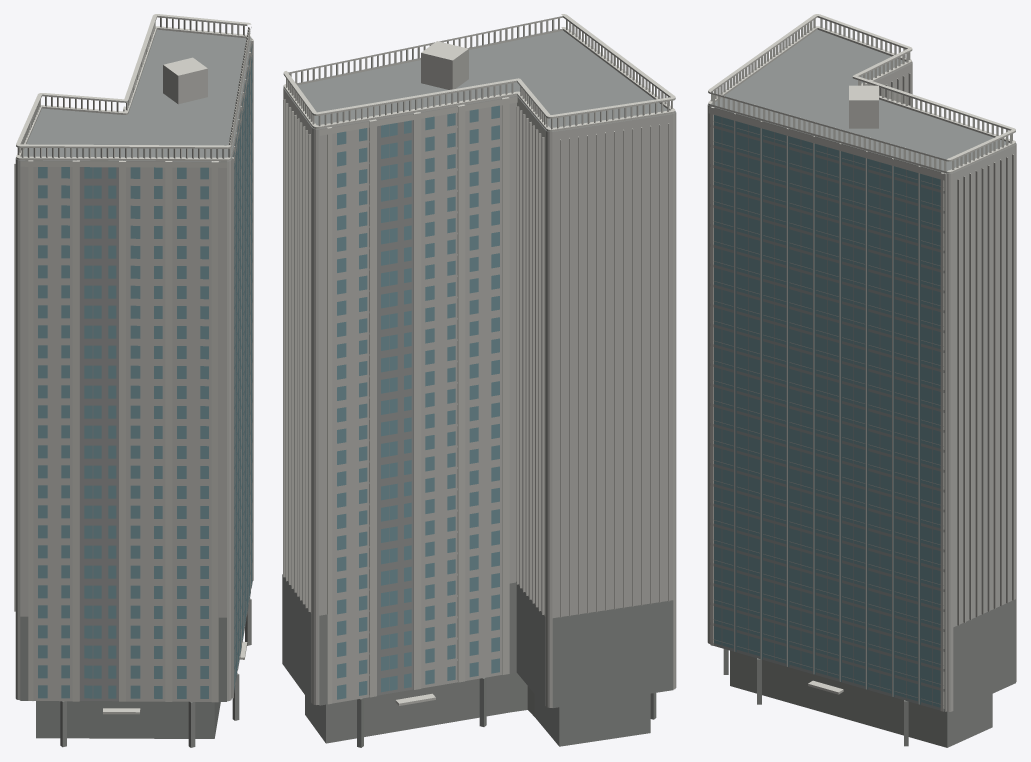
Rendered from maple-xi-212.glb.
3 views of the same model, side by side, from view 1: azimuth 30°, elevation 25°; view 2: azimuth 150°, elevation 25°; view 3: azimuth 270°, elevation 25° (orthographic). The views are drawn at different scales.
Parts seen in each view (by area): view 1: maple-xi-212; view 2: maple-xi-212; view 3: maple-xi-212.
Part boxes in pixels (box(x1,y1,x2,y2)): maple-xi-212: box(14, 14, 253, 747); maple-xi-212: box(282, 14, 676, 747); maple-xi-212: box(707, 14, 1016, 747).
Bounding box in the file's own units: 48.65 × 94.56 × 43.45.
